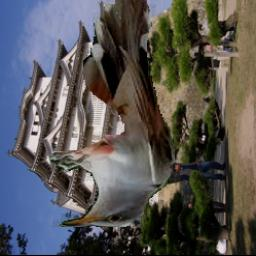Cuckoo: (50, 0, 176, 227)
